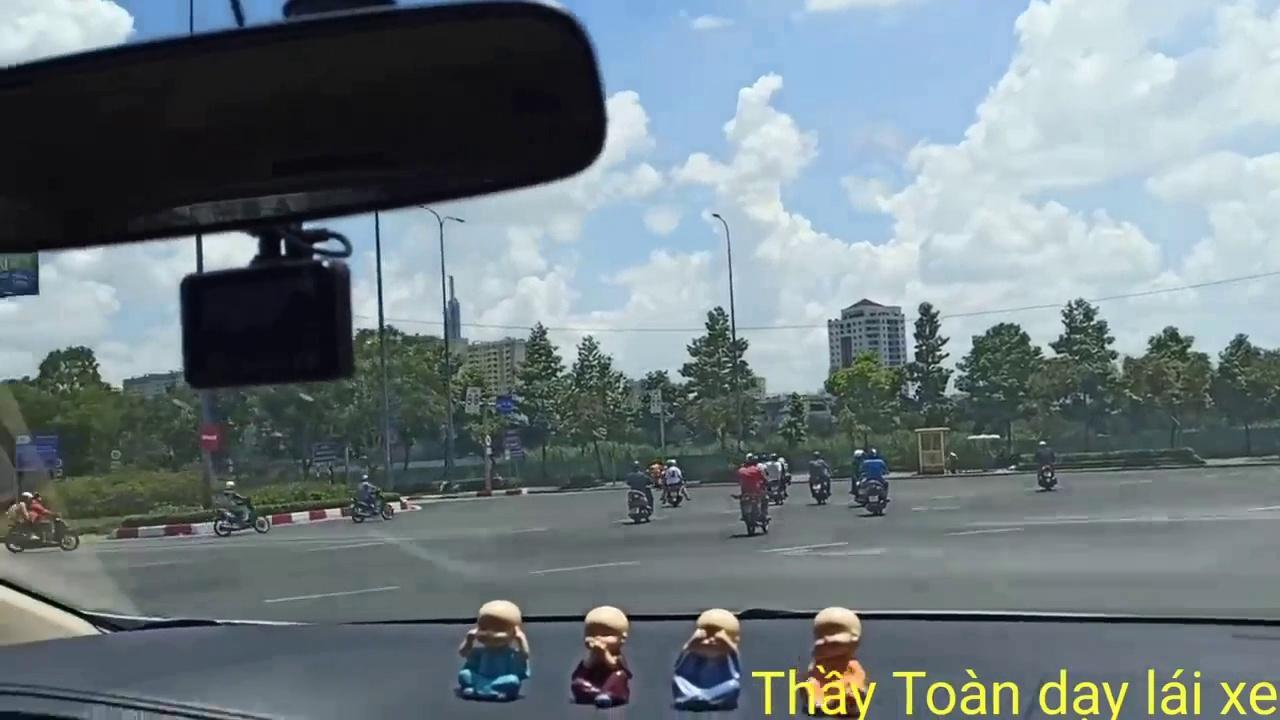Cấm cac phương tiện hoạt động trong khung giờ cố định: (465, 385, 481, 415)
Cấm đi ngược chiều: (196, 419, 227, 454)
Làn đường cho từng xe: (495, 394, 511, 416)
